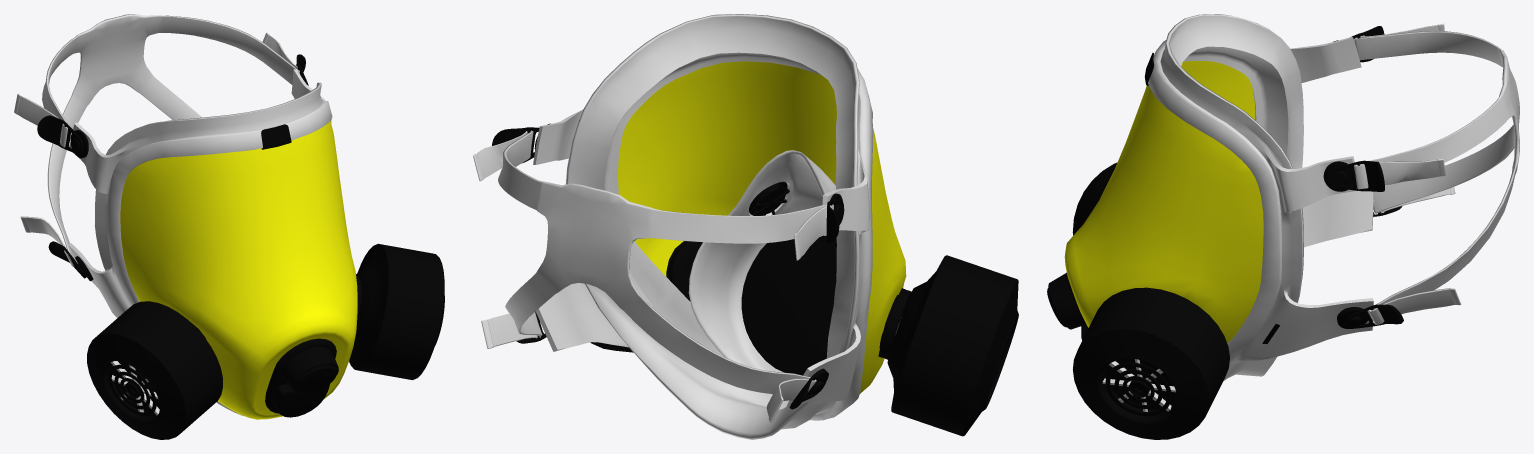
File: SM_Mask_V2.fbx
3 renders of one model, left to right at view 1: azimuth 30°, elevation 25°; view 2: azimuth 150°, elevation 25°; view 3: azimuth 270°, elevation 25°, orthographic. The views are drawn at different scales.
Parts seen in each view (by area): view 1: Mask_V2; view 2: Mask_V2; view 3: Mask_V2.
Part boxes in pixels (x1,y1,x2,y2): Mask_V2: (14, 14, 444, 439); Mask_V2: (473, 14, 1018, 439); Mask_V2: (1047, 14, 1519, 439).
Bounding box in the file's own units: 25.77 × 22.47 × 28.27.
